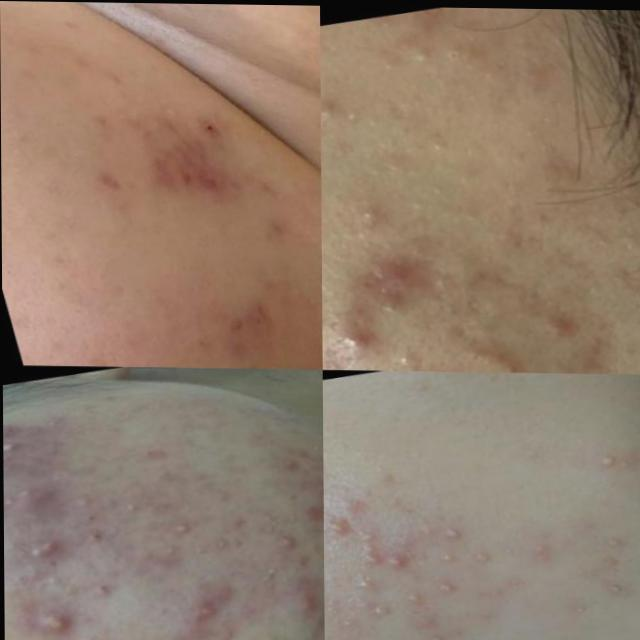8: (542, 306, 595, 350), (263, 519, 307, 564), (284, 583, 324, 621), (274, 446, 316, 479), (375, 259, 420, 289), (80, 526, 112, 550)
9: (589, 424, 640, 481), (356, 533, 417, 580), (332, 317, 385, 359), (12, 533, 70, 567), (105, 491, 157, 522), (162, 508, 206, 544), (33, 603, 79, 633), (359, 588, 399, 619), (322, 507, 359, 540), (595, 526, 633, 553), (429, 548, 462, 579), (597, 572, 633, 598), (3, 437, 34, 465), (437, 517, 473, 541), (408, 588, 432, 613), (432, 575, 460, 594), (628, 371, 640, 415), (312, 476, 323, 516)
blackheads: (154, 148, 244, 209), (217, 291, 286, 349), (180, 588, 234, 633)
pustules: (3, 472, 60, 524)
